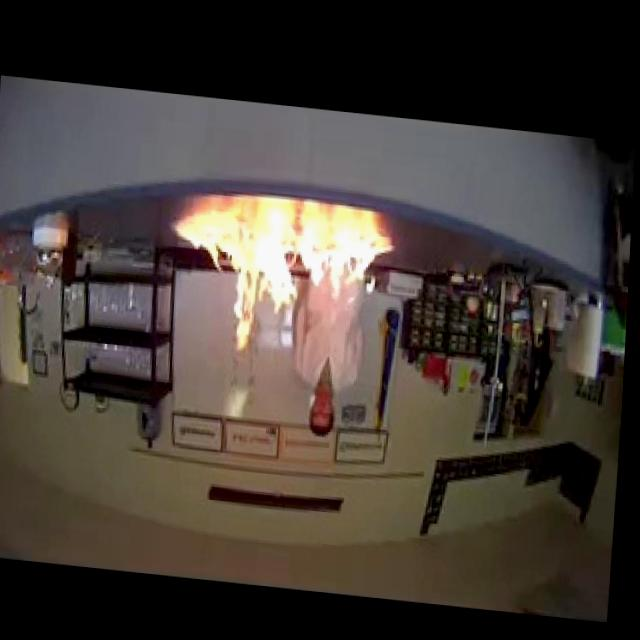helmet: (165, 213, 401, 362)
